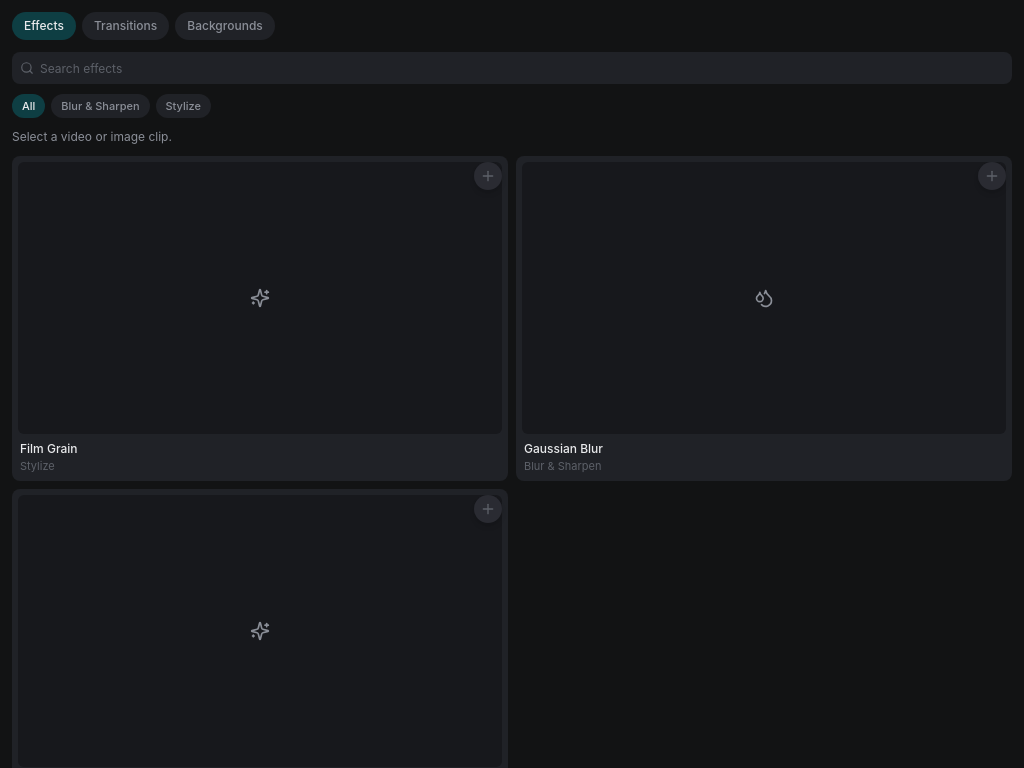
it: EffectsPanel effects › filters by search and category
In the search field labelled "Search effects": (512,68) top-left (12, 52), bottom-right (1012, 84), type " BLUR "
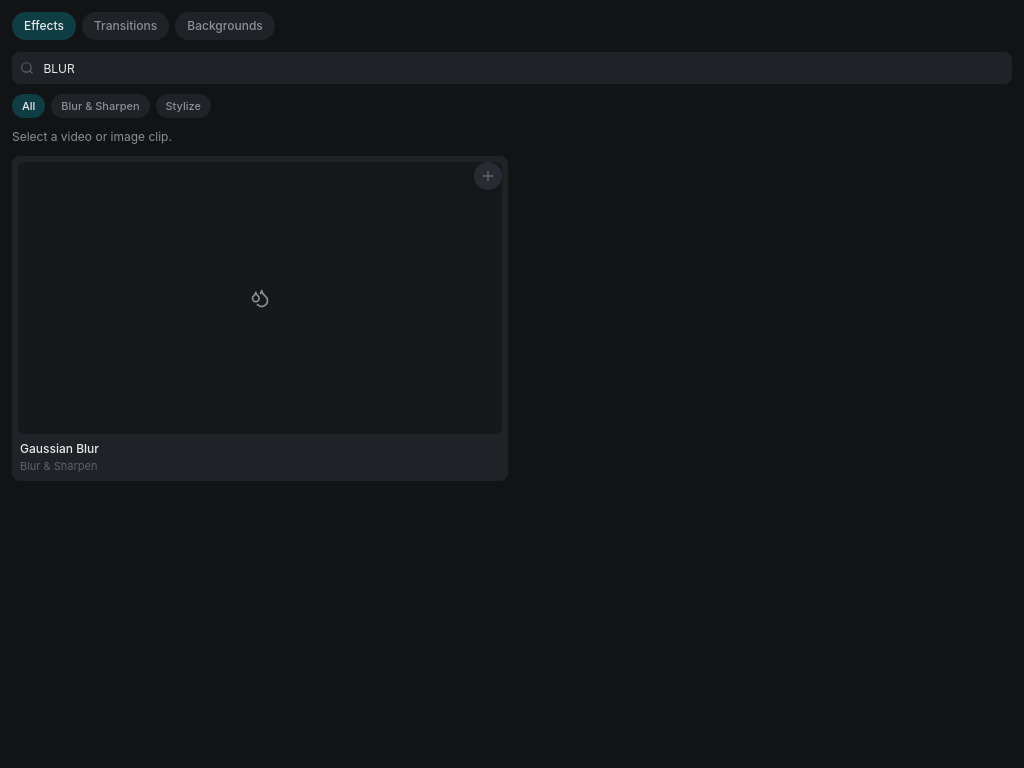
Expected: the number of list items is 1, top-left (12, 156), bottom-right (508, 481)
Clear the search field named "Search effects": (512,68) top-left (12, 52), bottom-right (1012, 84)
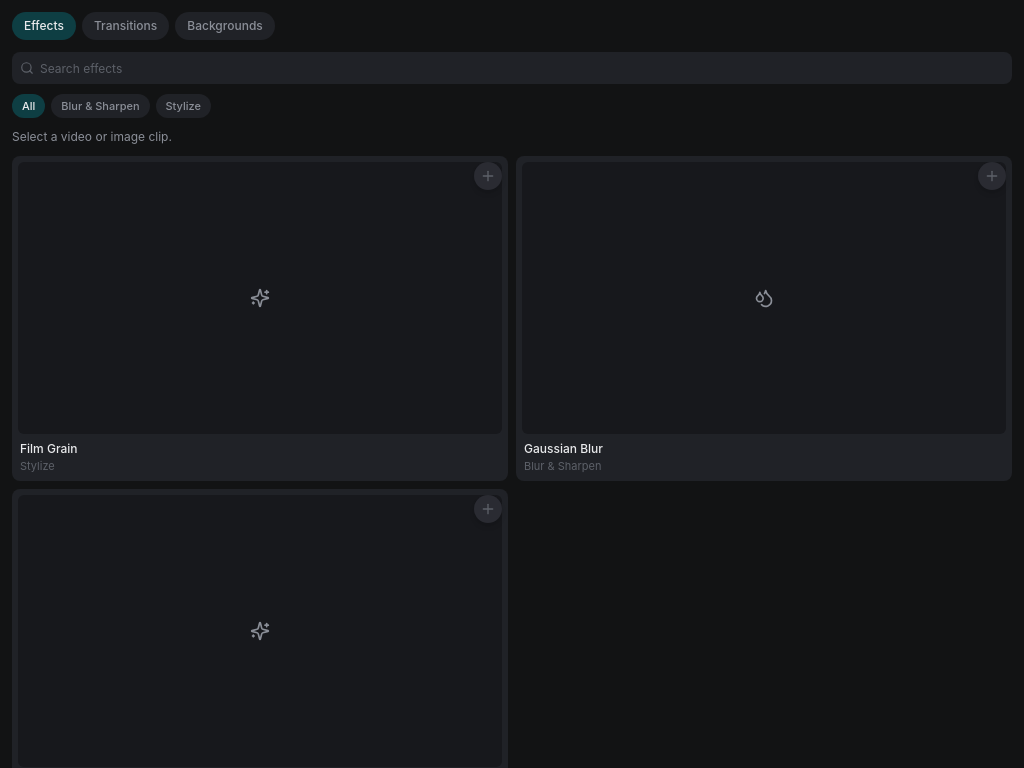
Click the button "Stylize": (183,106) top-left (156, 94), bottom-right (211, 118)
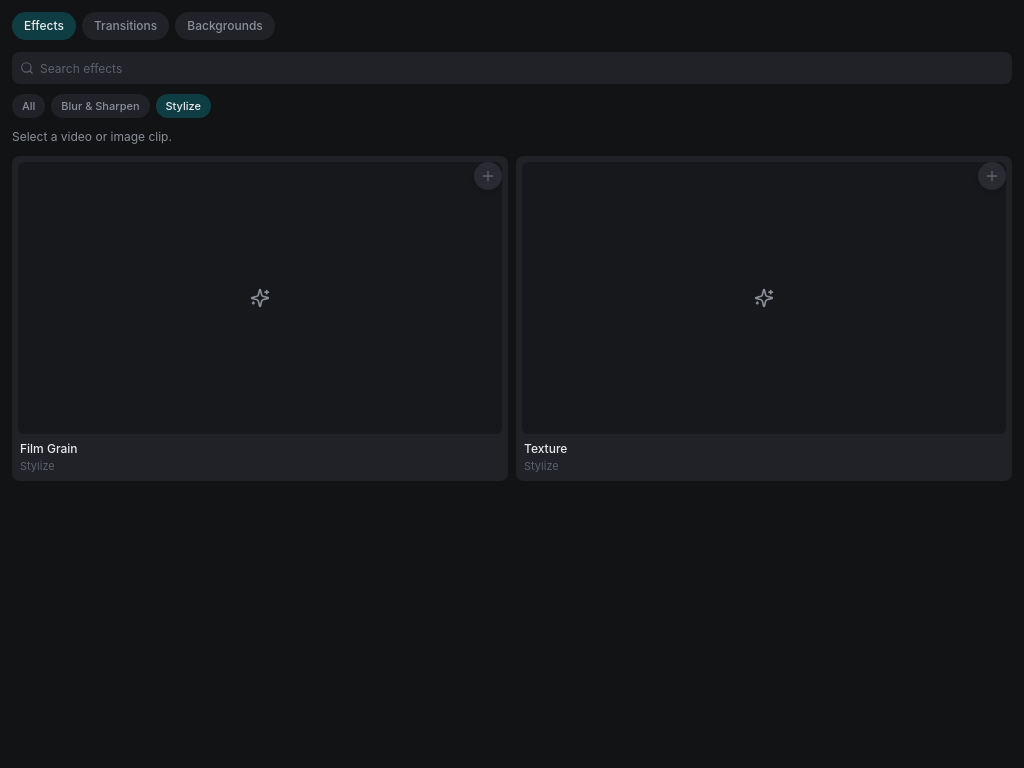
Expected: the text "Gaussian Blur" is gone
In the search field labelled "Search effects": (512,68) top-left (12, 52), bottom-right (1012, 84), type "nothing"
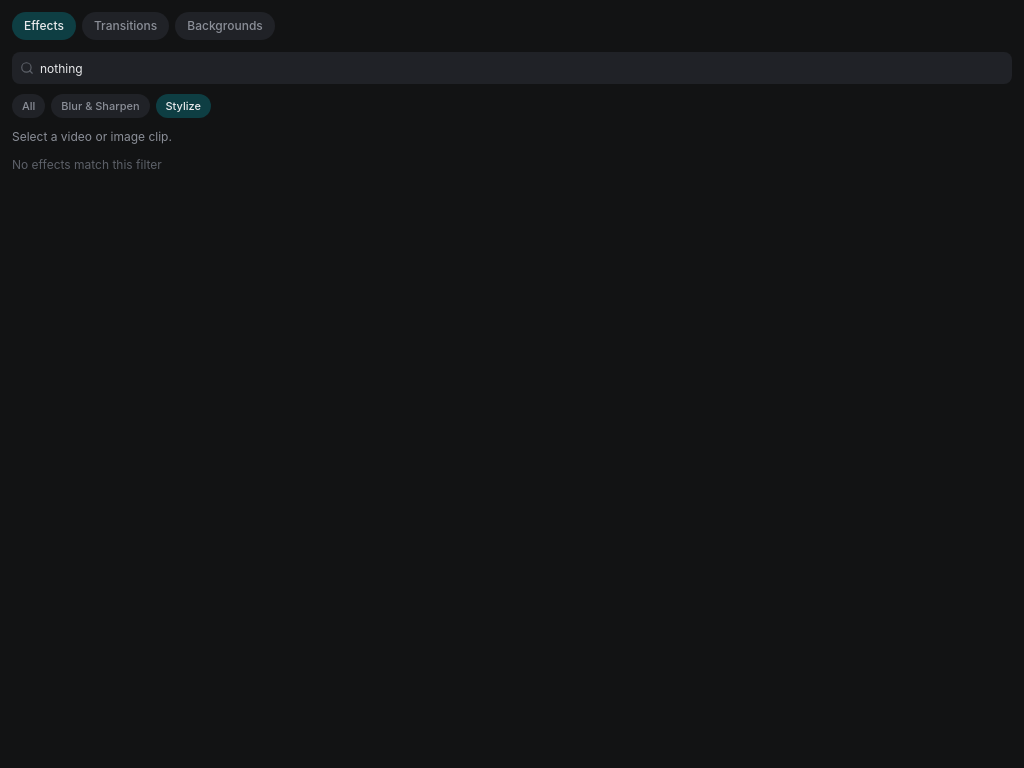
Expected: the text "No effects match this filter" is shown, top-left (12, 157), bottom-right (162, 172)
